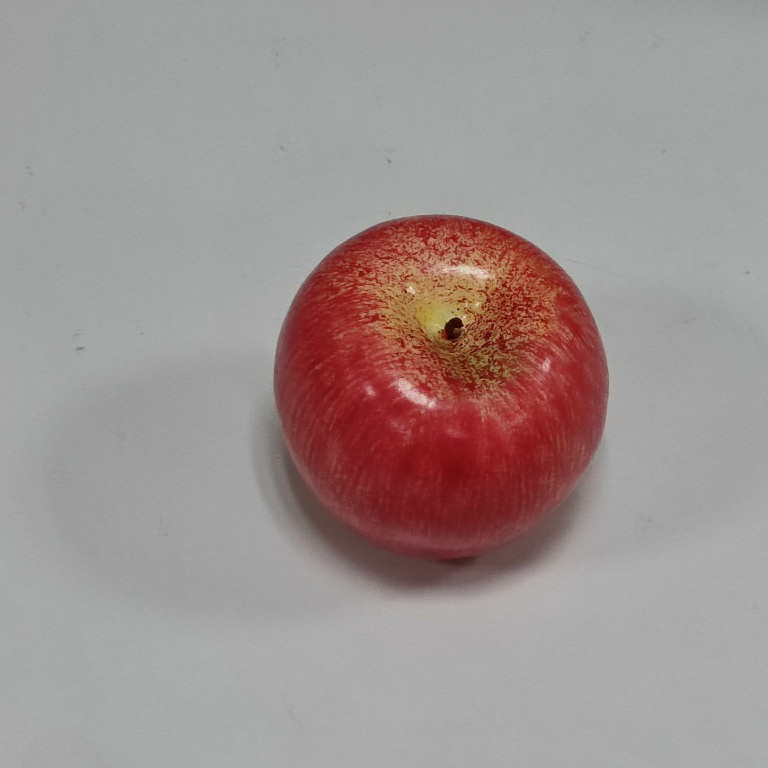fruit_apple: (270, 208, 616, 570)
